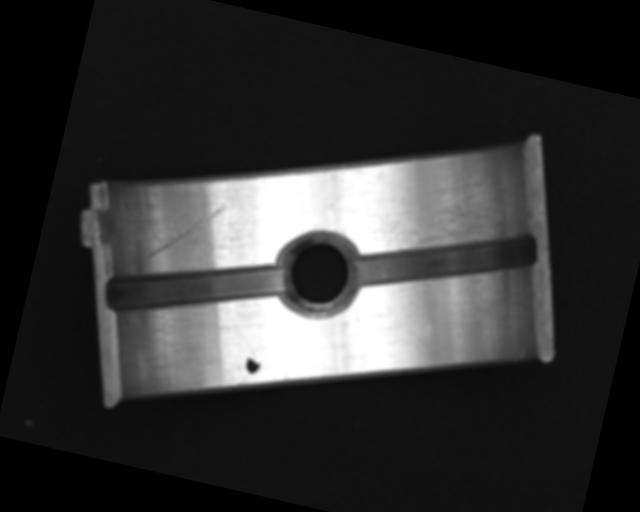blot: (243, 351, 262, 376)
gap: (350, 197, 539, 323), (100, 227, 287, 345)
hole: (270, 223, 366, 326)
nick: (144, 188, 226, 273)
scratch: (366, 157, 527, 276)
